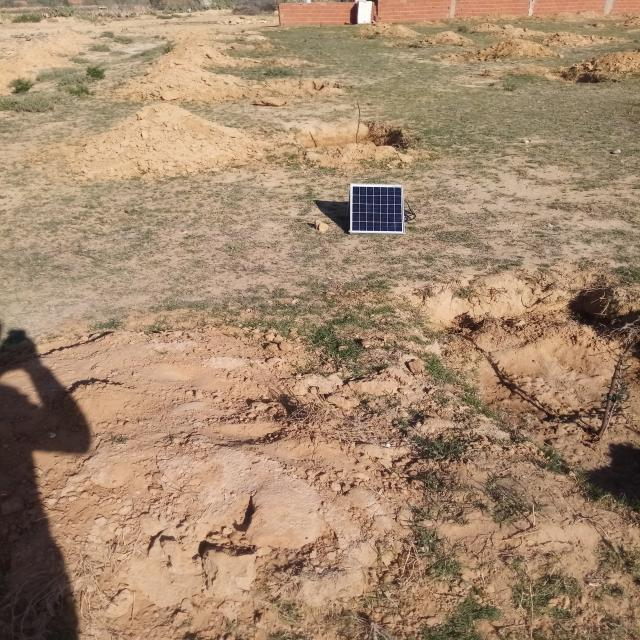Normal Solar Panel: (351, 184, 405, 234)
